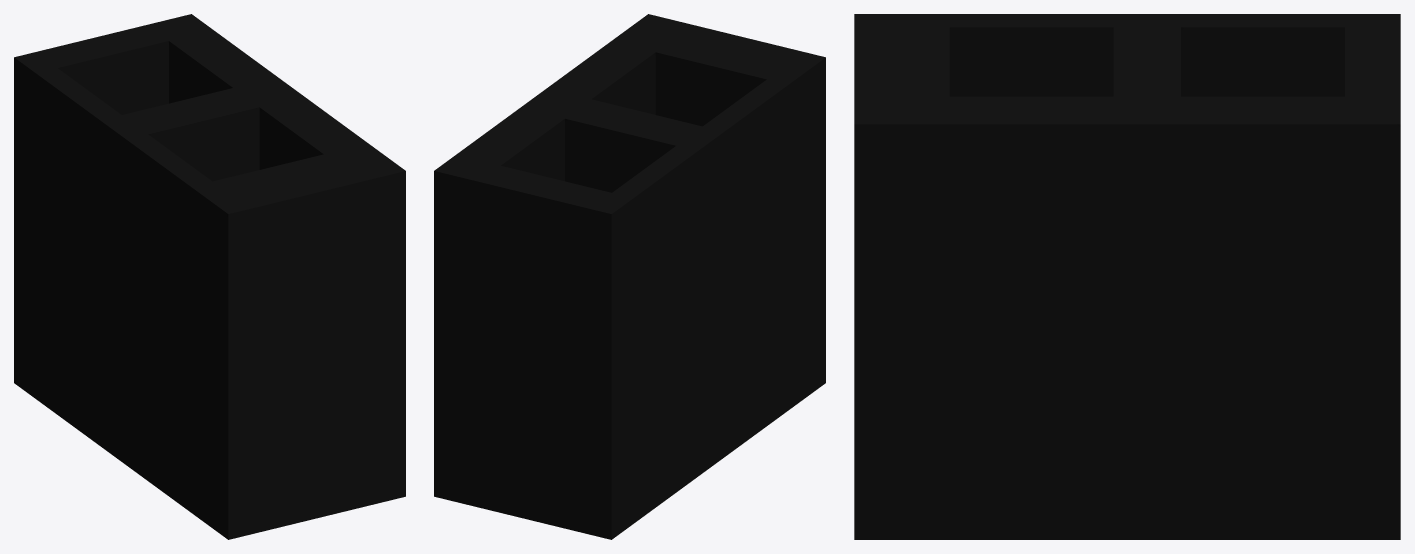
The model's file is pcie1-2.fbx.
3 renders of one model, left to right at view 1: azimuth 30°, elevation 25°; view 2: azimuth 150°, elevation 25°; view 3: azimuth 270°, elevation 25°, orthographic. The views are drawn at different scales.
Parts seen in each view (by area): view 1: 立方體.008; view 2: 立方體.008; view 3: 立方體.008.
Part boxes in pixels (box(x1,y1,x2,y2)): 立方體.008: box(14, 14, 405, 539); 立方體.008: box(434, 14, 825, 539); 立方體.008: box(854, 14, 1400, 539).
Size of the model in its own units: 13.07 by 22.91 by 27.32.
